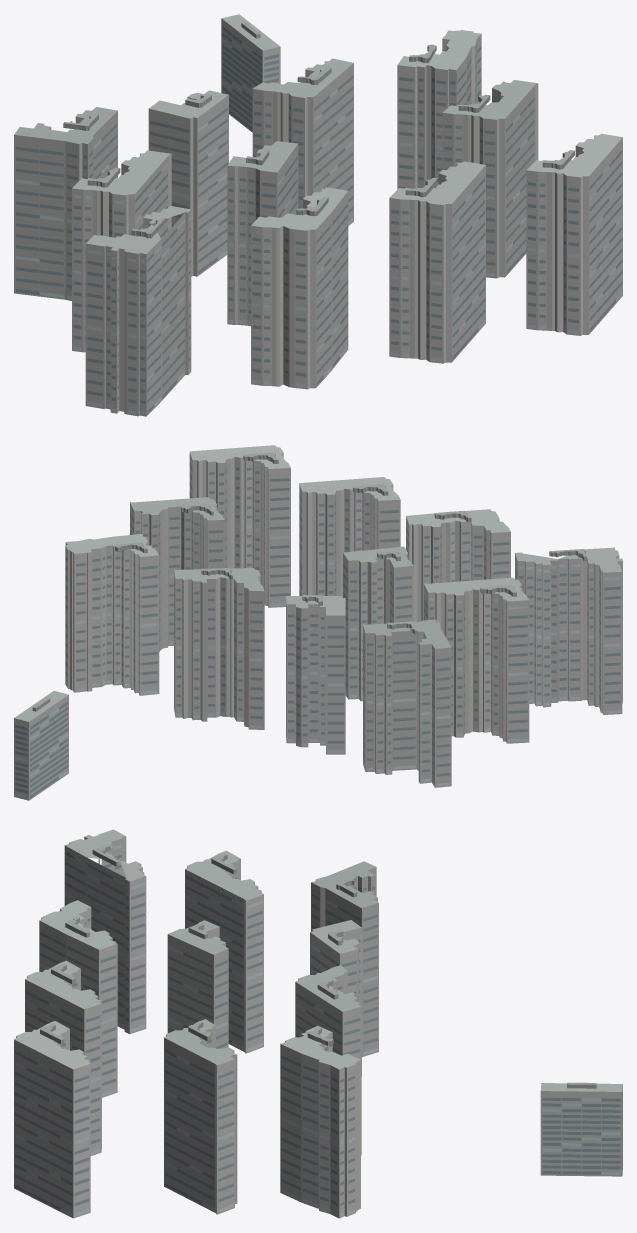
The model's file is apt-a10024741.glb.
3 views of the same model, one above another, from view 1: azimuth 30°, elevation 25°; view 2: azimuth 150°, elevation 25°; view 3: azimuth 270°, elevation 25° (orthographic). The views are drawn at different scales.
Visible parts, largest first — view 1: apt-a10024741; view 2: apt-a10024741; view 3: apt-a10024741.
Boxes of the visible parts, box(x1,y1,x2,y2) form: apt-a10024741: box(14, 14, 622, 416); apt-a10024741: box(14, 445, 622, 800); apt-a10024741: box(14, 829, 622, 1218).
Size of the model in its own units: 274 by 85 by 298.
